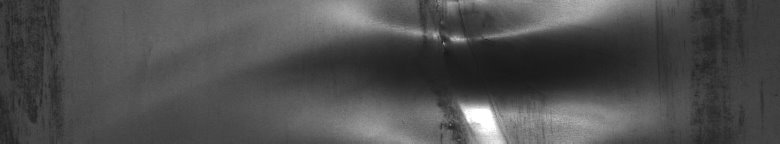ke: (388, 4, 543, 132)
